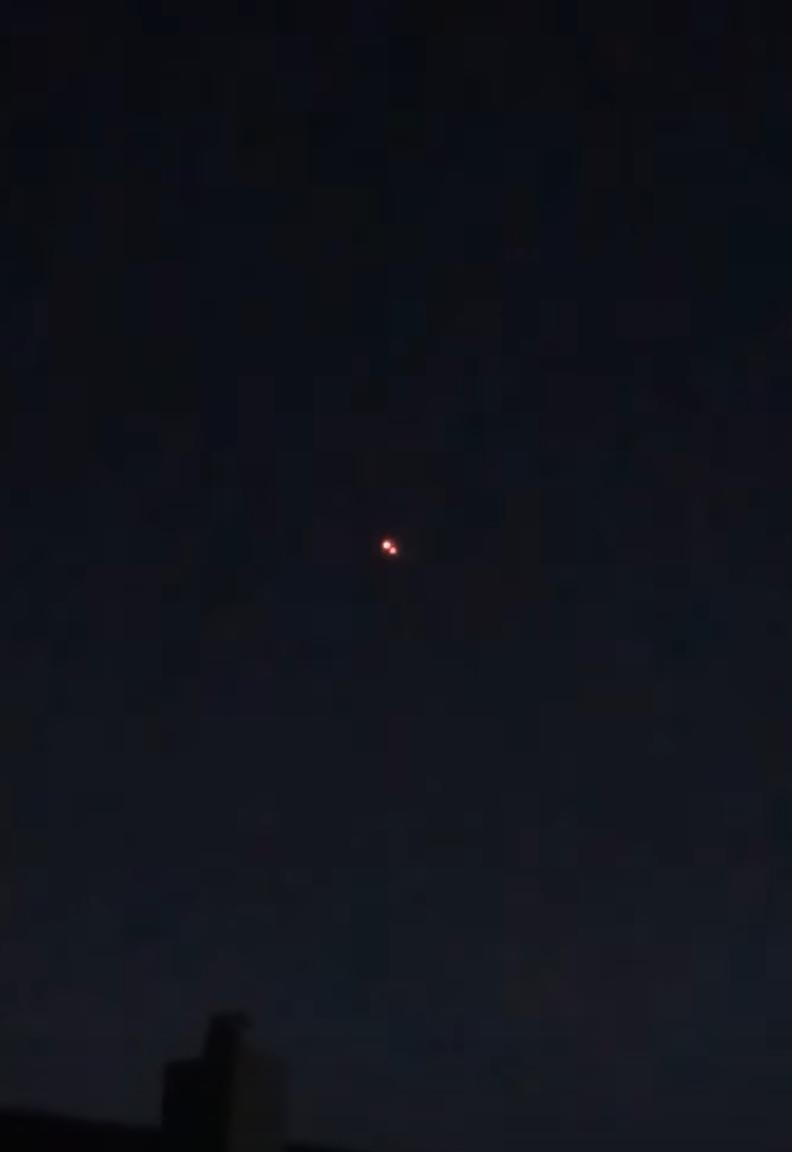Plane: (352, 517, 424, 577)
